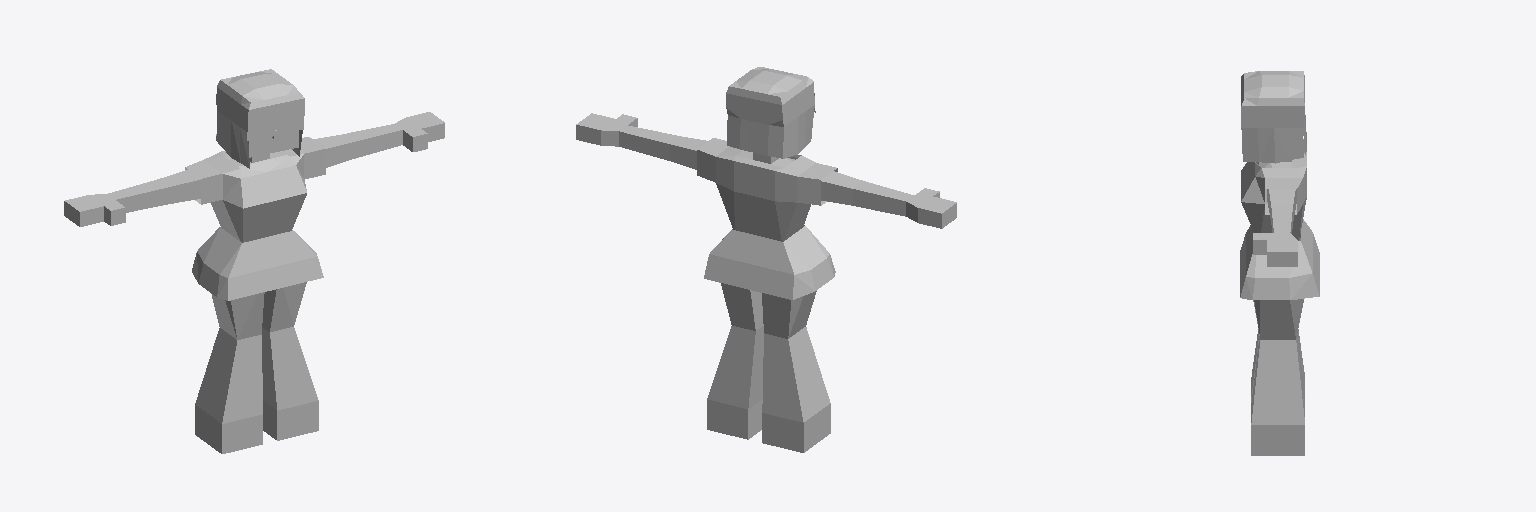
Rendered from mob.obj.
The picture shows the model from 3 angles: view 1: azimuth 30°, elevation 25°; view 2: azimuth 150°, elevation 25°; view 3: azimuth 270°, elevation 25°; orthographic projection.
Parts seen in each view (by area): view 1: 立方体.002, 服, スカート, 髪; view 2: 立方体.002, 服, 髪, スカート; view 3: 立方体.002, 髪, スカート, 服.
Part boxes in pixels (x1,y1,x2,y2): 立方体.002: (64,112,444,453); 服: (185,137,325,242); スカート: (192,227,323,300); 髪: (216,69,304,168); 立方体.002: (576,113,956,452); 服: (697,138,837,241); 髪: (726,67,815,158); スカート: (704,225,835,299); 立方体.002: (1251,159,1304,455); 髪: (1241,71,1306,163); スカート: (1240,219,1319,299); 服: (1241,152,1306,240).
Size of the model in its own units: 12.97 by 11.95 by 2.45.